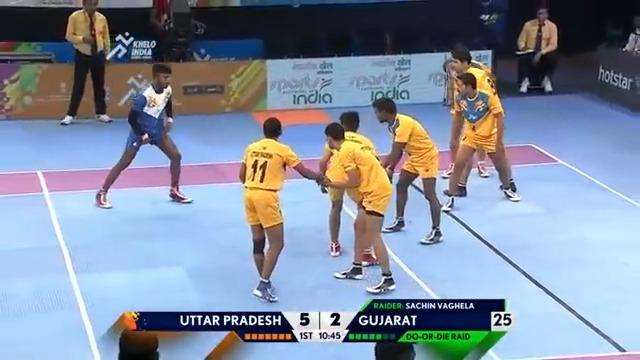Player: (236, 114, 325, 303), (438, 44, 522, 212), (318, 120, 397, 296), (369, 95, 444, 245)
Raider: (93, 60, 195, 209)
referee: (59, 0, 114, 125), (515, 7, 558, 94)
